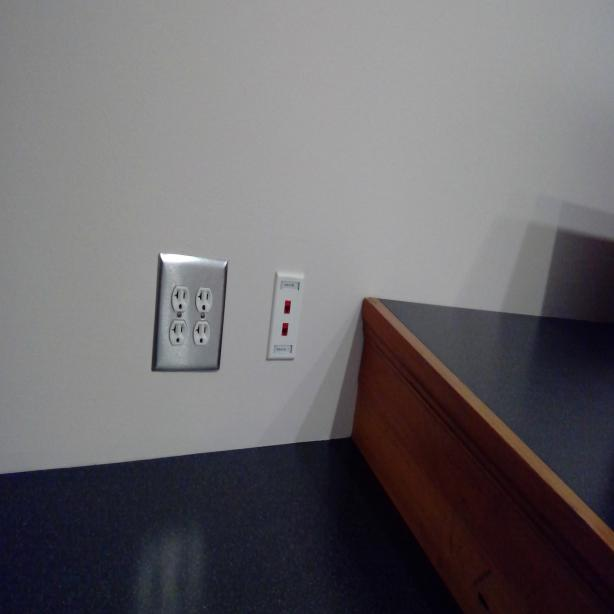typeb: (169, 321, 187, 348), (171, 287, 189, 314), (196, 285, 212, 313), (194, 320, 210, 346)
